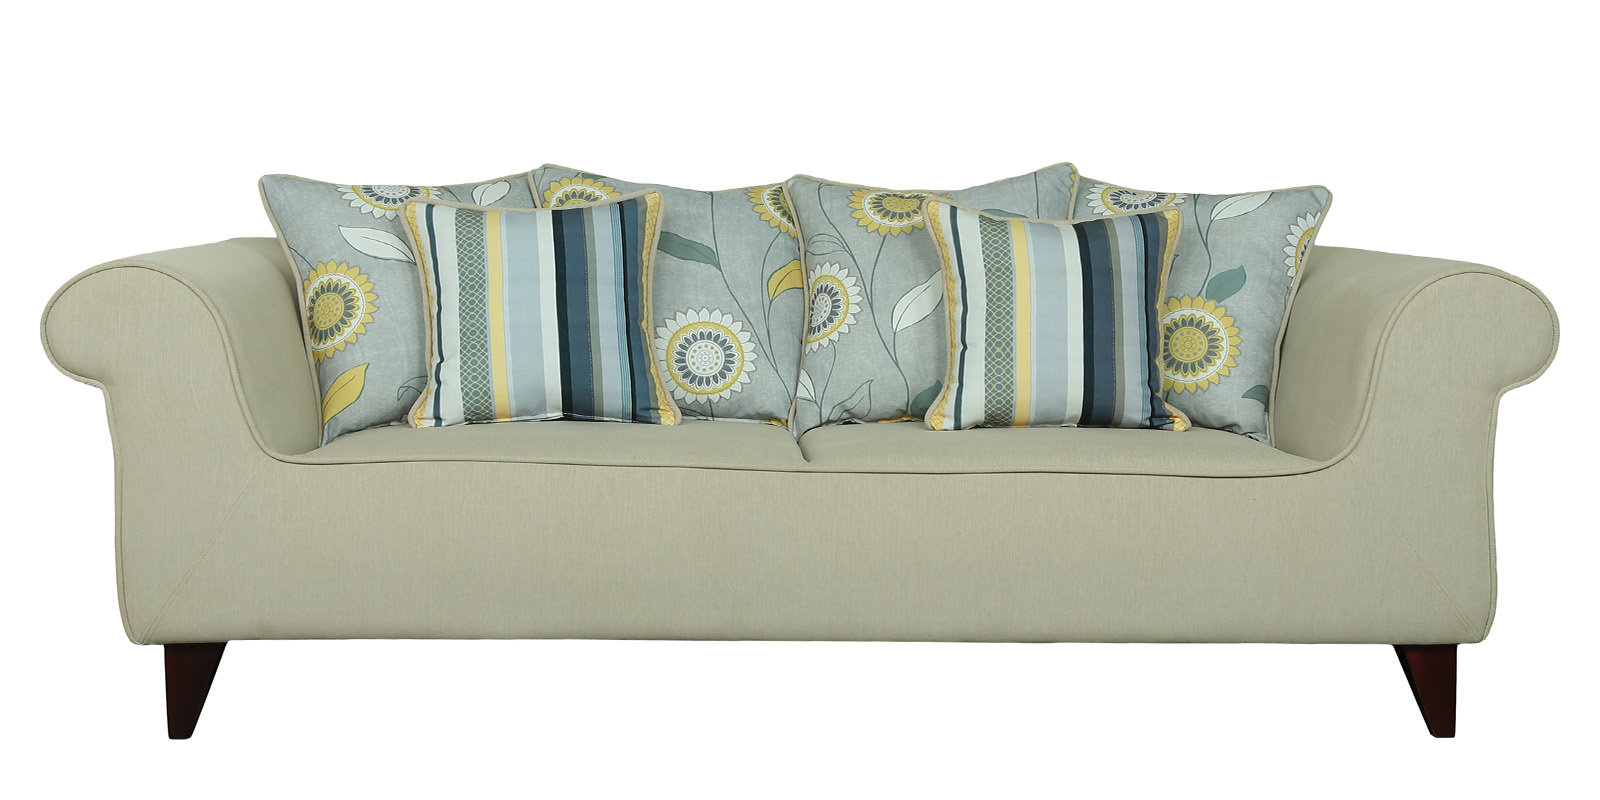Cielo Three Seater Sofa in Beige Colour by CasaCraft: (24, 158, 1570, 767)
